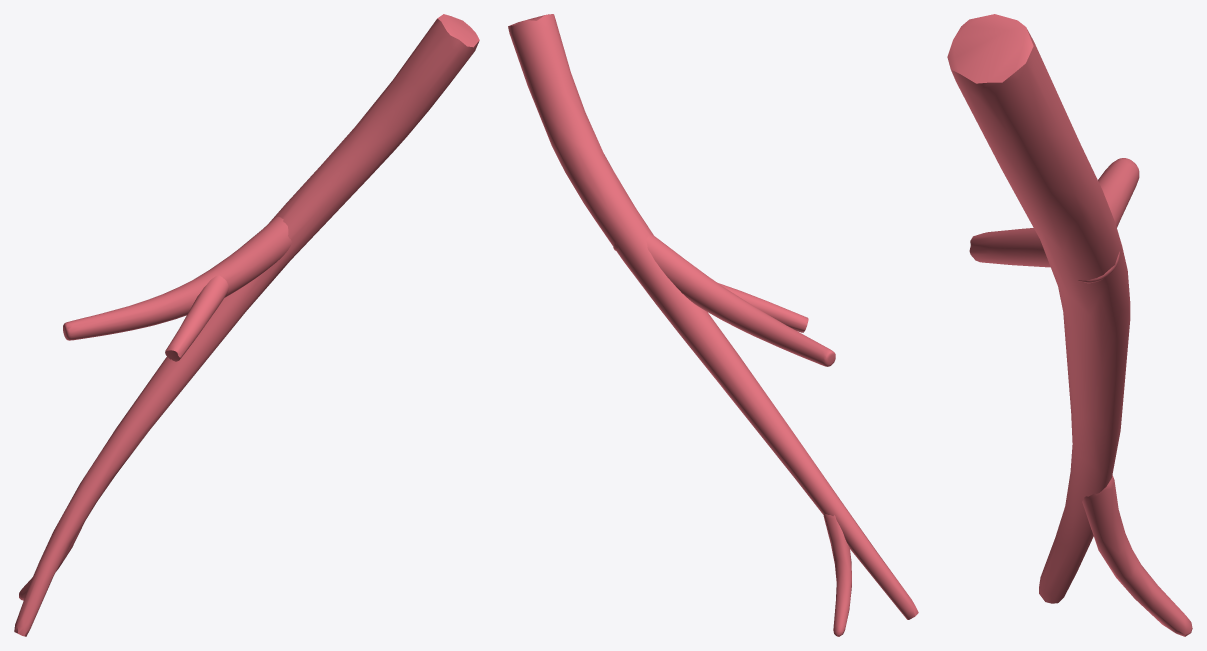
File: fma68728_cx188.glb
3 views of the same model, side by side, from view 1: azimuth 30°, elevation 25°; view 2: azimuth 150°, elevation 25°; view 3: azimuth 270°, elevation 25° (orthographic). The views are drawn at different scales.
Visible parts, largest first — view 1: FMA68728_CX188; view 2: FMA68728_CX188; view 3: FMA68728_CX188.
Boxes of the visible parts, x1=… form: FMA68728_CX188: x1=14, y1=14, x2=479, y2=636; FMA68728_CX188: x1=508, y1=14, x2=918, y2=636; FMA68728_CX188: x1=947, y1=14, x2=1192, y2=636.
Size of the model in its own units: 0.0598 by 0.0679 by 0.0161.
